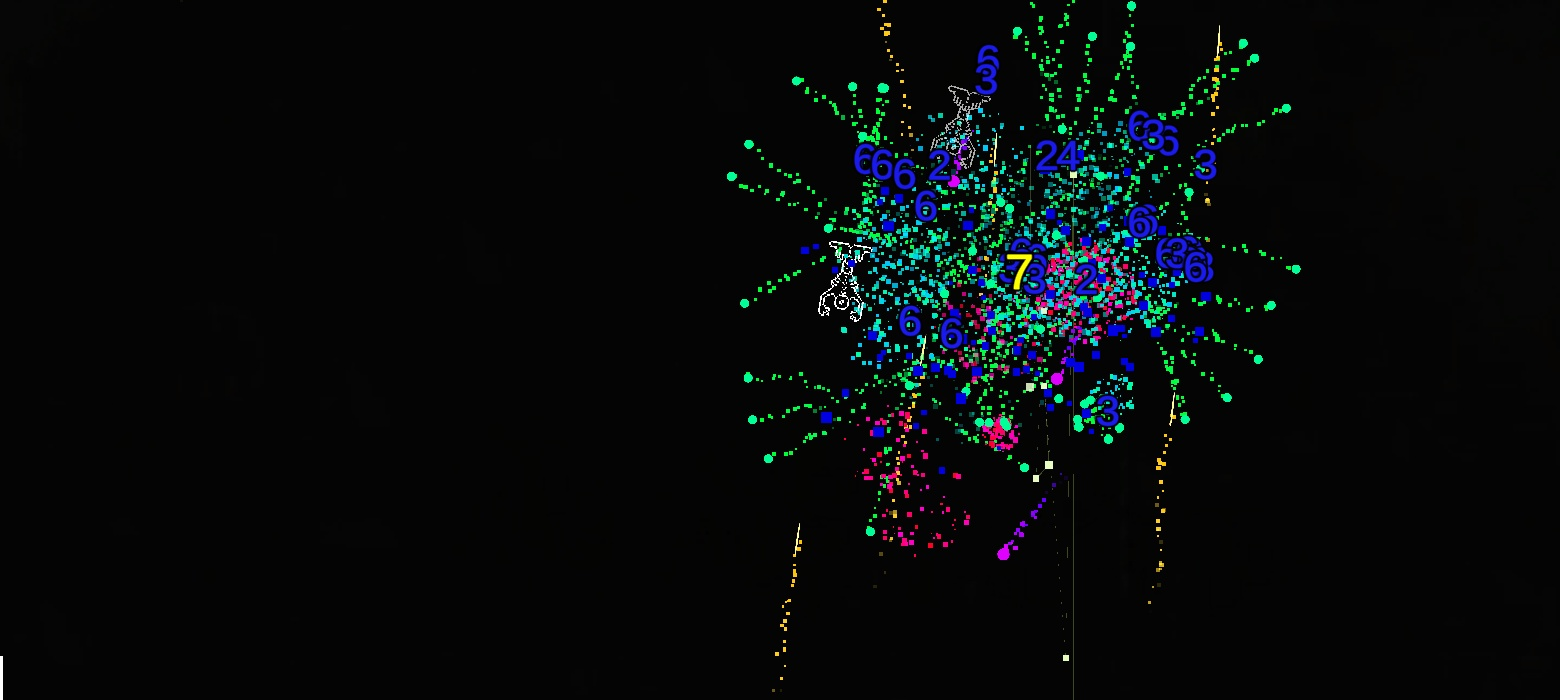enemy: (930, 85, 991, 169), (817, 240, 872, 323)
